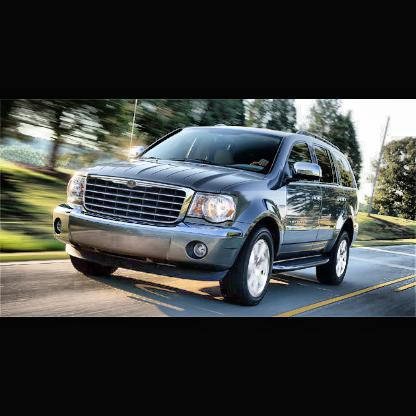Chrysler Aspen SUV 2009: (54, 124, 361, 306)
